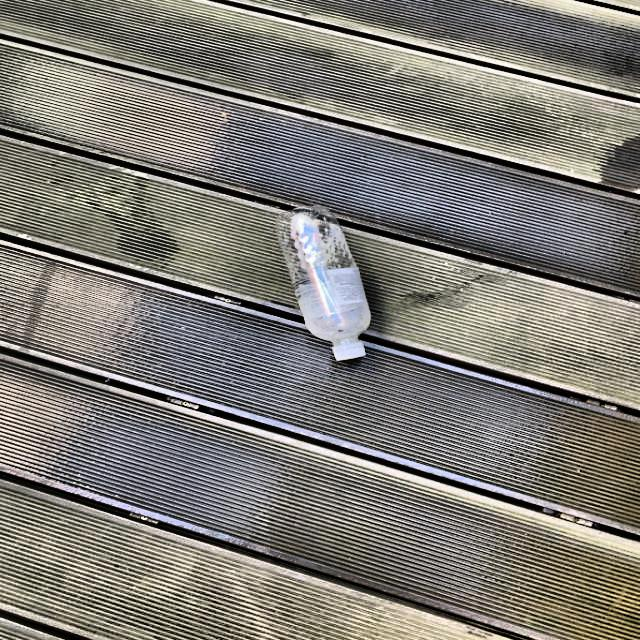plastic bottle: (281, 208, 371, 362)
